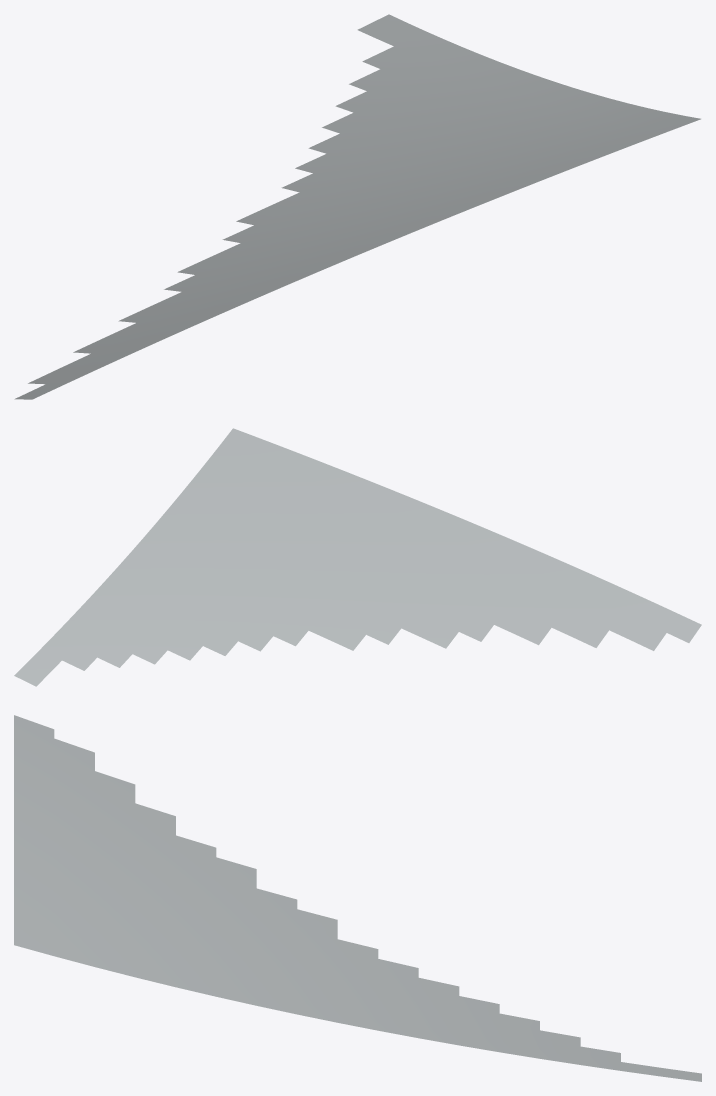
The model's file is alpine-7-3.glb.
3 renders of one model, top to bottom at view 1: azimuth 30°, elevation 25°; view 2: azimuth 150°, elevation 25°; view 3: azimuth 270°, elevation 25°, orthographic. The views are drawn at different scales.
Visible parts, largest first — view 1: alpine-7-3; view 2: alpine-7-3; view 3: alpine-7-3.
Part boxes in pixels (x1,y1,x2,y2): alpine-7-3: [14, 14, 700, 399]; alpine-7-3: [14, 428, 701, 686]; alpine-7-3: [14, 715, 701, 1081].
Size of the model in its own units: 168 by 32.6 by 136.
Materials: 1 (1 with a texture image).
